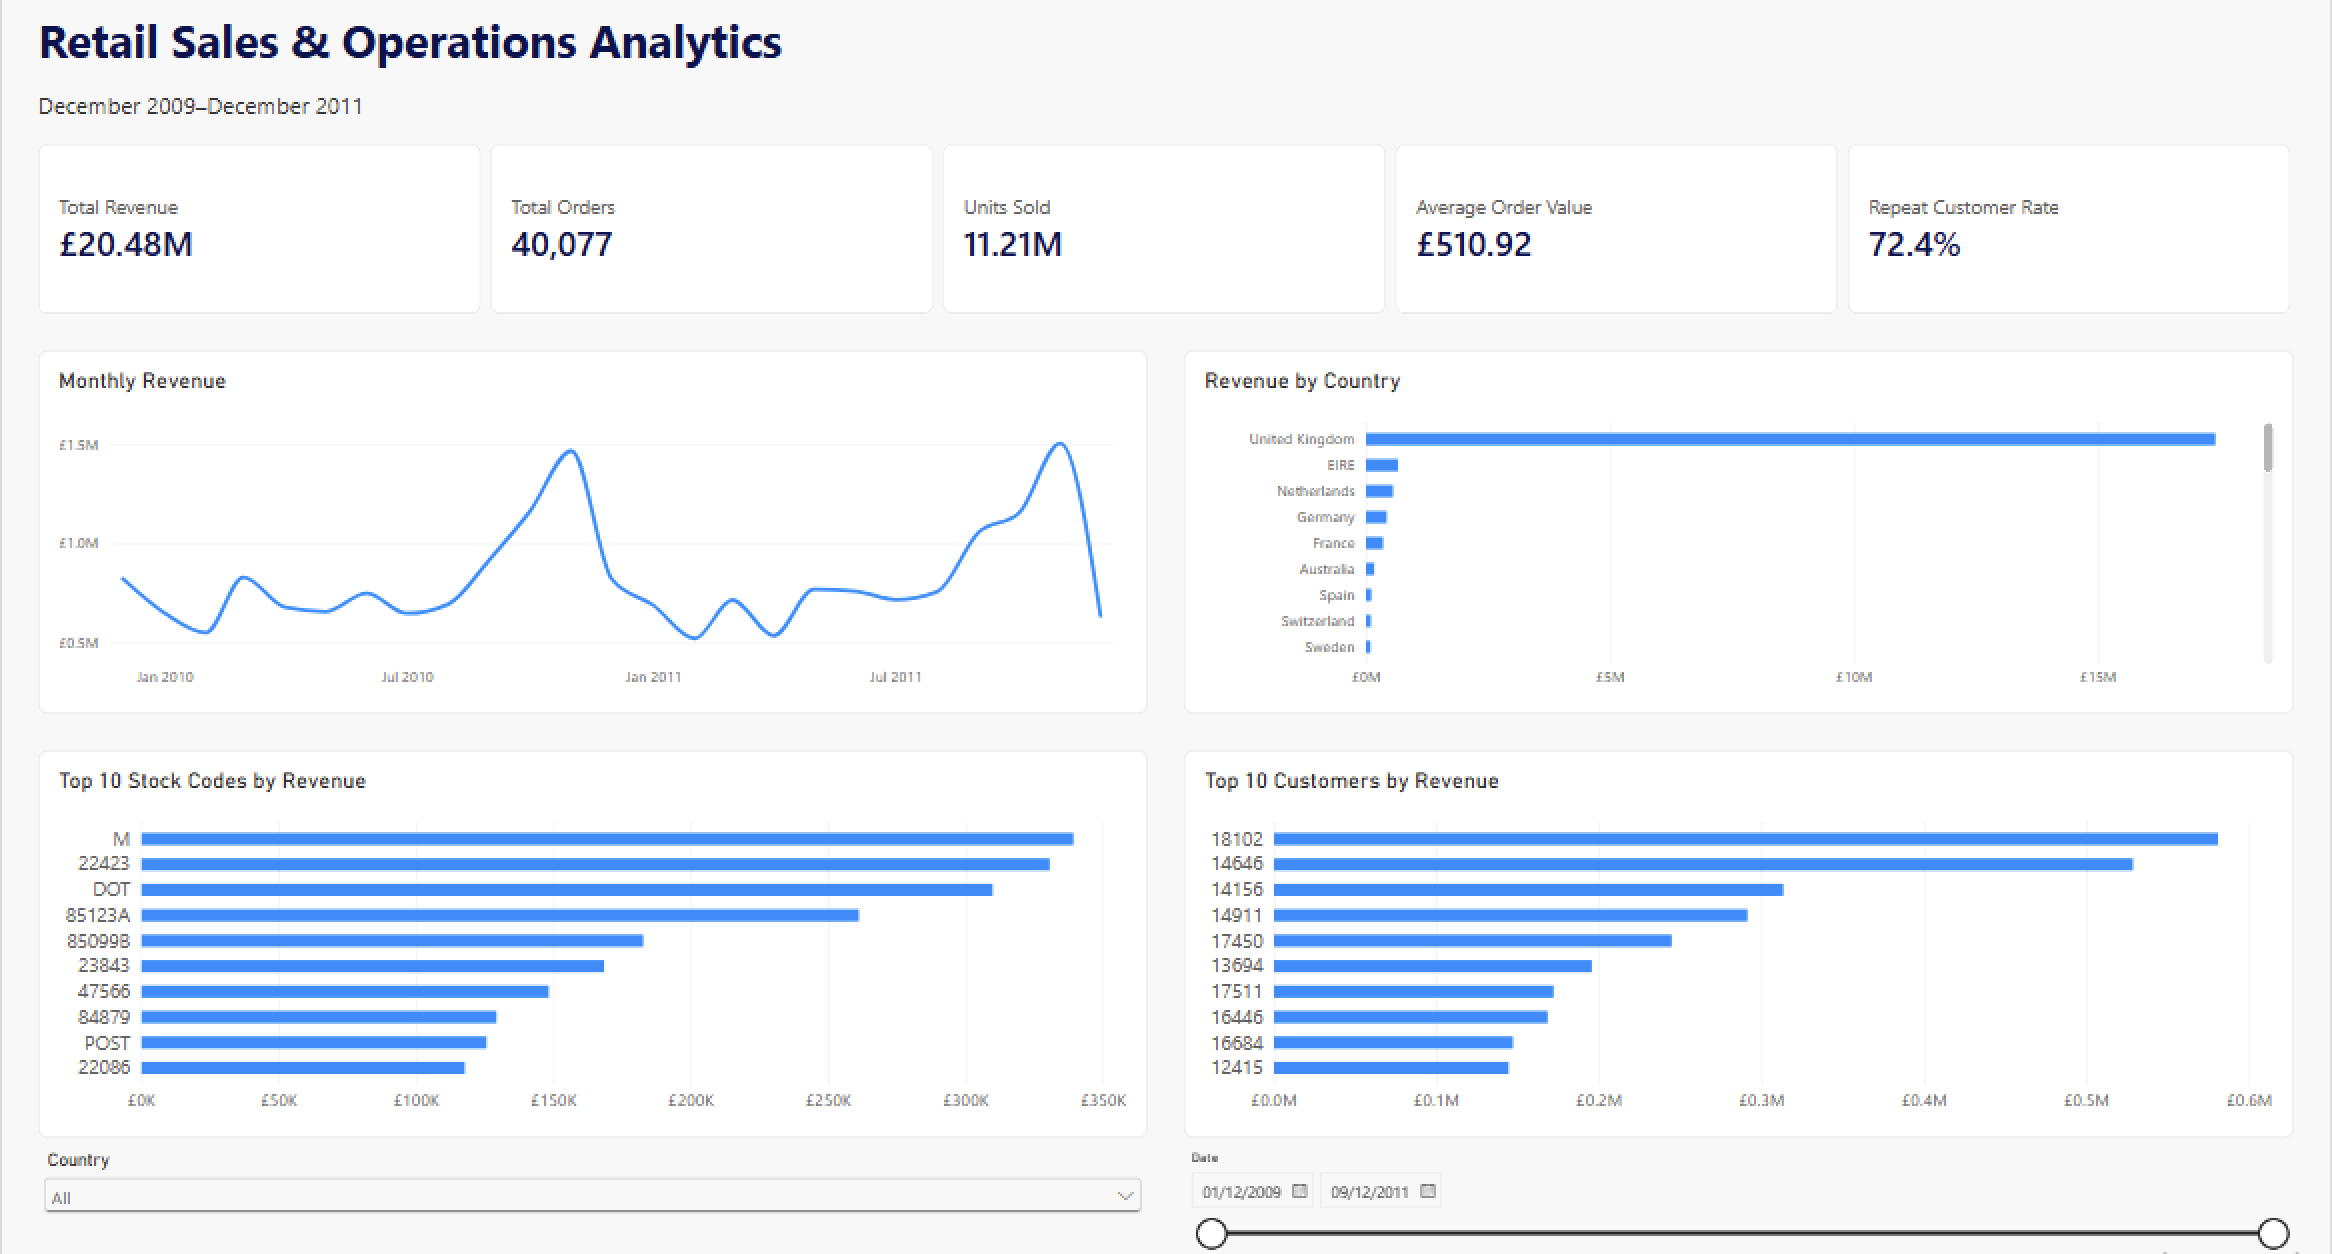

Layout of this report page (visuals, bound fields, positions):
{"tool":"powerbi","page":{"name":"Retail Overview","canvas":[1920,1080],"ordinal":0},"visuals":[{"type":"cardVisual","fields":{"Data":["fact_sales.Total Revenue","fact_sales.Total Orders","fact_sales.Units Sold","fact_sales.Average Order Value","fact_sales.Repeat Customer Rate"]},"box":[30,130,1860,140],"z":0},{"type":"textbox","box":[30,20,1860,60],"z":1000},{"type":"textbox","box":[30,85,1860,35],"z":2000},{"type":"lineChart","title":"Monthly Revenue","fields":{"Category":["dim_date.Month Start"],"Y":["fact_sales.Total Revenue"]},"box":[30,300,915,300],"z":2001},{"type":"clusteredBarChart","title":"Revenue by Country","fields":{"Category":["dim_location.country"],"Y":["fact_sales.Total Revenue"]},"box":[974.3,300,915,300],"z":2002},{"type":"clusteredBarChart","title":"Top 10 Products by Revenue","fields":{"Category":["dim_product.stock_code"],"Y":["fact_sales.Total Revenue"]},"box":[30,630,915,320],"z":2003},{"type":"clusteredBarChart","title":"Top 10 Customers by Revenue","fields":{"Category":["dim_customer.customer_id"],"Y":["fact_sales.Total Revenue"]},"box":[974,630,915,320],"z":2004},{"type":"slicer","fields":{"Values":["dim_location.country"]},"box":[30,960,915,90],"z":2005},{"type":"slicer","fields":{"Values":["dim_date.date"]},"box":[974,960,915,90],"z":2006}]}

Visuals, with their boxes on the page's 1920x1080 design canvas (x1, y1, x2, y2). These are canvas units, not pixel positions in the 2332x1254 screenshot, which may show the page scaled, cropped or inside an application window:
cardVisual - fact_sales.Total Revenue x fact_sales.Total Orders: rect(30, 130, 1890, 270)
textbox: rect(30, 20, 1890, 80)
textbox: rect(30, 85, 1890, 120)
"Monthly Revenue" lineChart: rect(30, 300, 945, 600)
"Revenue by Country" clusteredBarChart: rect(974, 300, 1889, 600)
"Top 10 Products by Revenue" clusteredBarChart: rect(30, 630, 945, 950)
"Top 10 Customers by Revenue" clusteredBarChart: rect(974, 630, 1889, 950)
slicer - dim_location.country: rect(30, 960, 945, 1050)
slicer - dim_date.date: rect(974, 960, 1889, 1050)
